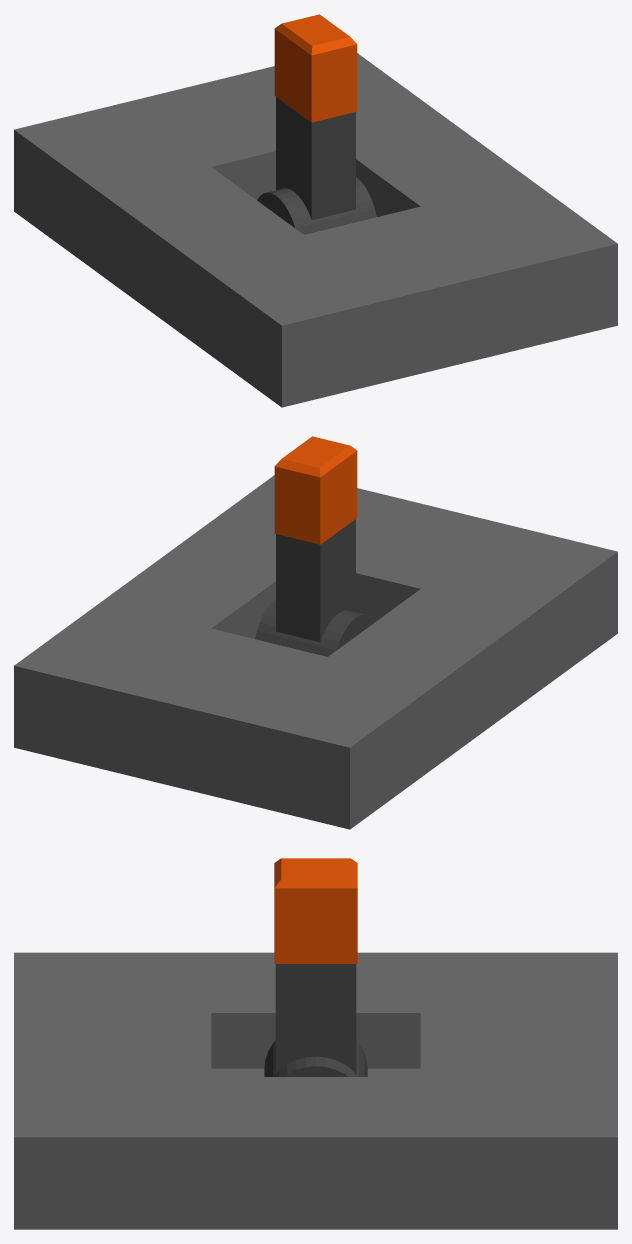
Rendered from OrangeSwitch.glb.
The picture shows the model from 3 angles, top to bottom: view 1: azimuth 30°, elevation 25°; view 2: azimuth 150°, elevation 25°; view 3: azimuth 270°, elevation 25°; orthographic projection. The views are drawn at different scales.
Parts seen in each view (by area): view 1: Base, Switch, Cube; view 2: Base, Switch, Cube; view 3: Base, Switch, Cube.
Boxes of the visible parts, left/top/right/bottom form: Base: left=14, top=53, right=617, bottom=407; Switch: left=257, top=97, right=376, bottom=234; Cube: left=274, top=14, right=357, bottom=122; Base: left=14, top=475, right=617, bottom=829; Switch: left=255, top=519, right=374, bottom=656; Cube: left=274, top=436, right=357, bottom=544; Base: left=14, top=952, right=617, bottom=1229; Switch: left=264, top=964, right=367, bottom=1076; Cube: left=274, top=858, right=357, bottom=963.
Size of the model in its own units: 0.0463 by 0.0315 by 0.0639.
